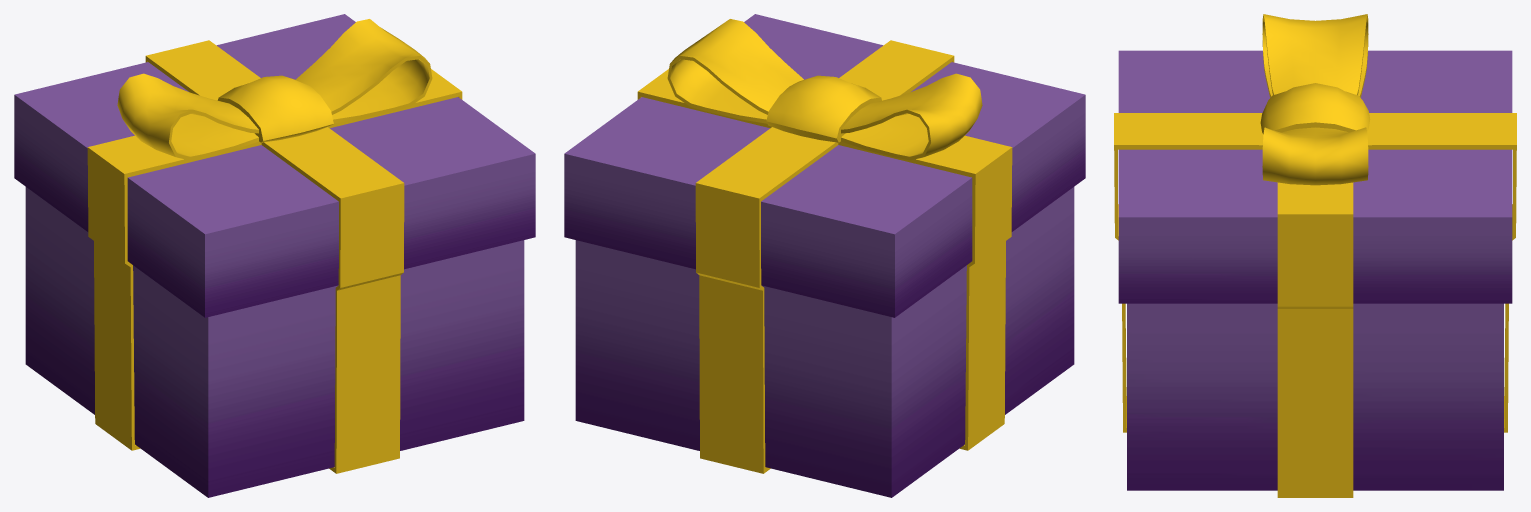
Rendered from gift1.fbx.
3 renders of one model, left to right at view 1: azimuth 30°, elevation 25°; view 2: azimuth 150°, elevation 25°; view 3: azimuth 270°, elevation 25°, orthographic. The views are drawn at different scales.
Visible parts, largest first — view 1: giftbox; view 2: giftbox; view 3: giftbox.
Part boxes in pixels (<box>): giftbox: <box>14,14,535,497</box>; giftbox: <box>564,14,1085,497</box>; giftbox: <box>1114,14,1516,497</box>.
Size of the model in its own units: 94.34 by 88.69 by 94.34.
Materials: 1 (1 with a texture image).
